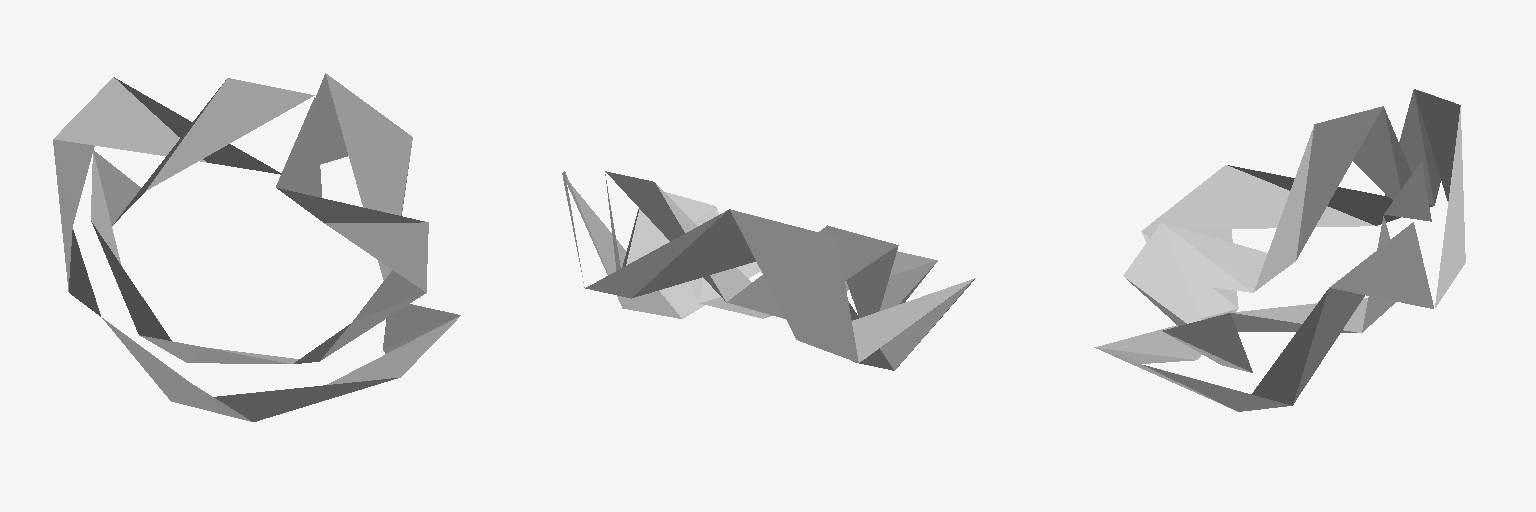
File: BR_Dusknoir.obj
3 renders of one model, left to right at view 1: azimuth 30°, elevation 25°; view 2: azimuth 150°, elevation 25°; view 3: azimuth 270°, elevation 25°, orthographic.
Visible parts, largest first — view 1: yonoir; view 2: yonoir; view 3: yonoir.
Boxes of the visible parts, box(x1,y1,x2,y2) form: yonoir: box(53, 73, 460, 421); yonoir: box(562, 171, 975, 370); yonoir: box(1094, 89, 1465, 411).
Bounding box in the file's own units: 1.23 × 0.8109 × 1.09.